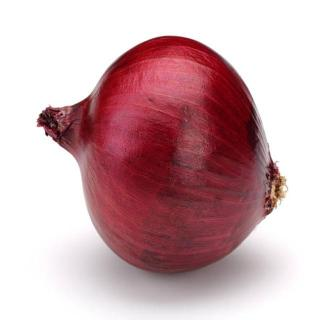Bawang Merah: (32, 32, 289, 278)
